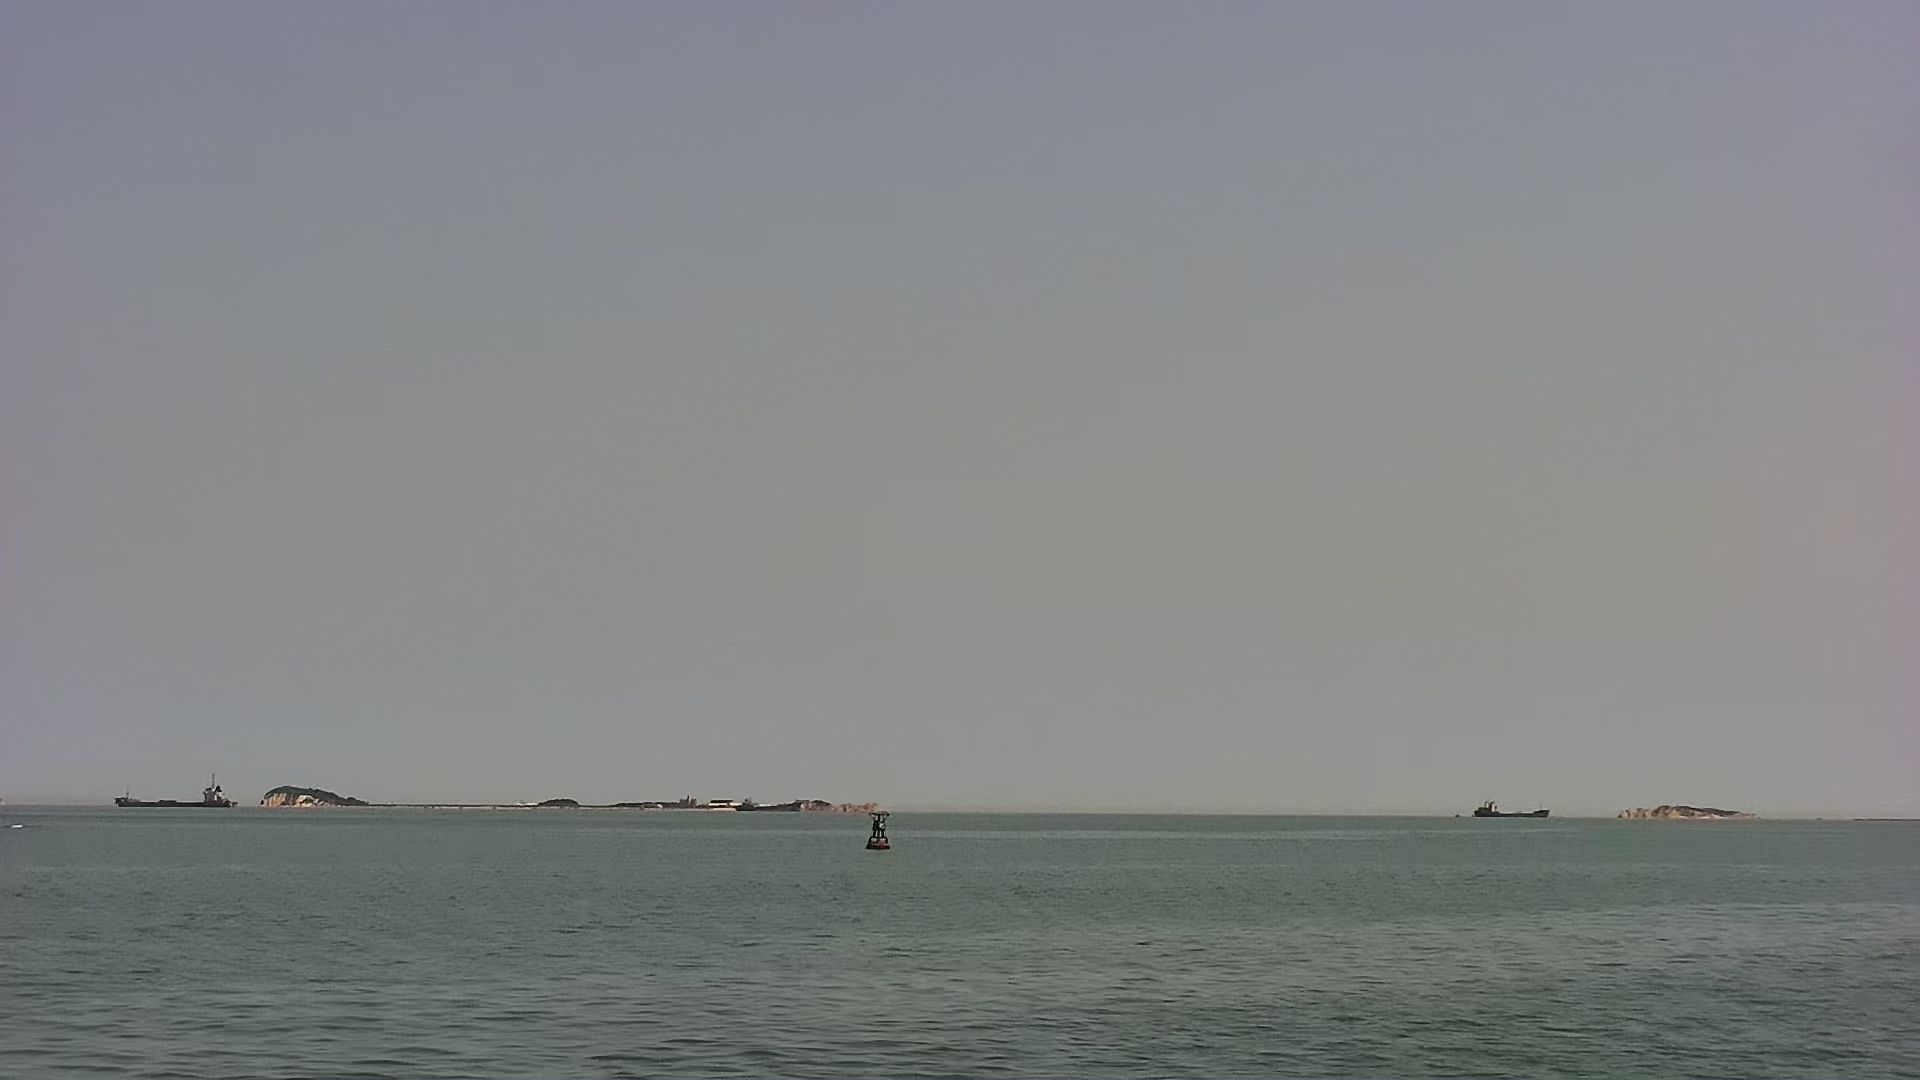platform: (858, 810, 901, 851)
rock: (1610, 782, 1754, 831), (258, 786, 369, 816)
ship: (104, 783, 251, 815), (1466, 796, 1560, 822)
